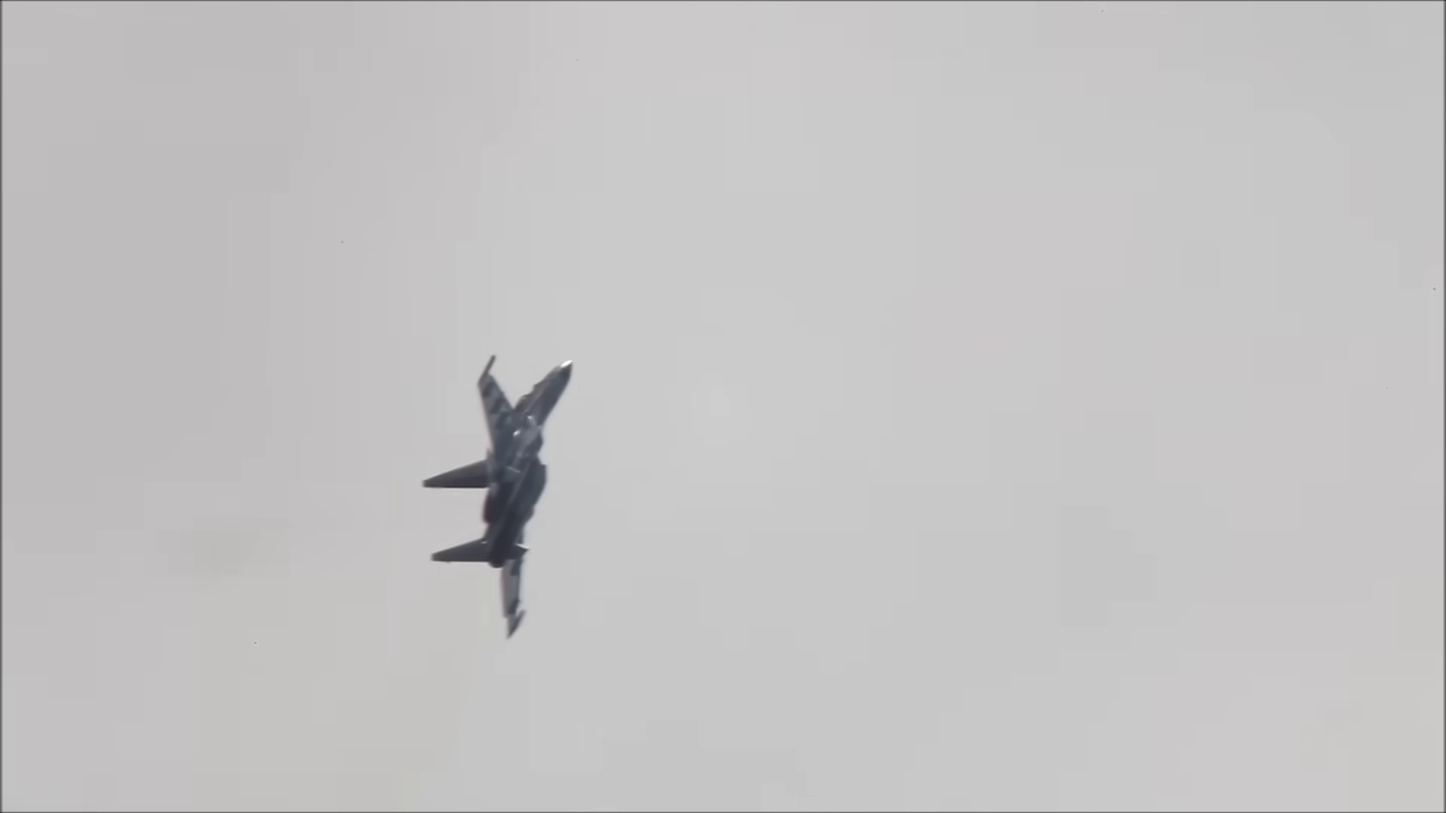Su35: (410, 341, 581, 647)
